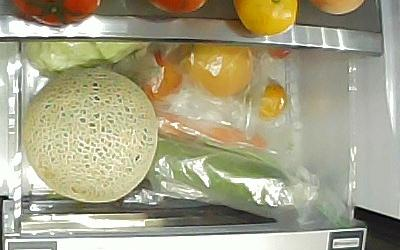cabbage: (24, 42, 154, 71)
carrot_vinyl: (156, 110, 269, 156)
melon: (22, 67, 158, 201)
pear_vinyl: (192, 43, 254, 99)
prune_vinyl: (252, 79, 288, 121)
tomato_vinyl: (132, 50, 182, 102)
zucchini_vinyl: (156, 141, 309, 212)
